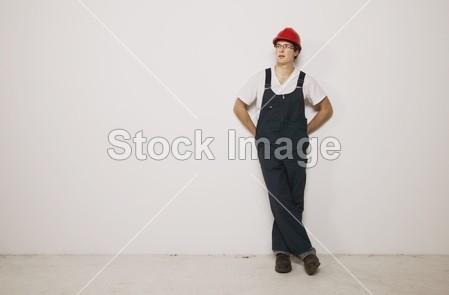helmet: (273, 26, 305, 47)
no_wear: (249, 69, 310, 153)
